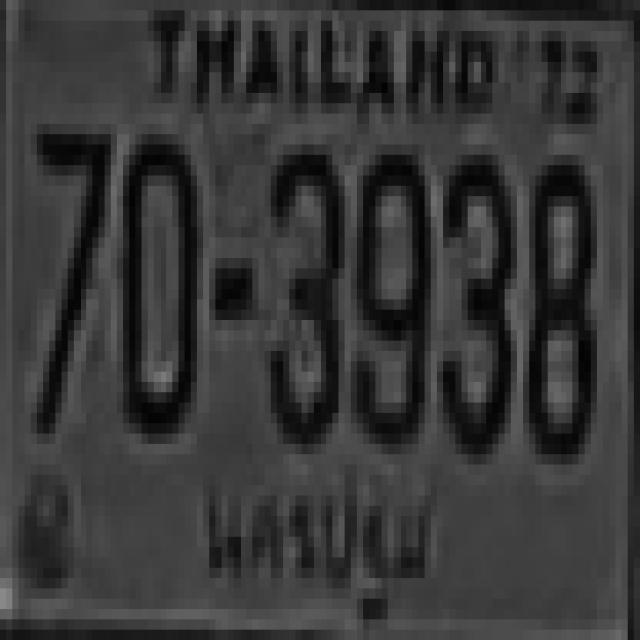0: (117, 129, 197, 428)
3: (437, 145, 511, 454), (264, 139, 338, 439)
7: (31, 119, 111, 428)
8: (523, 155, 591, 454)
9: (348, 144, 428, 444)
NakhonPathom: (195, 455, 448, 640)
